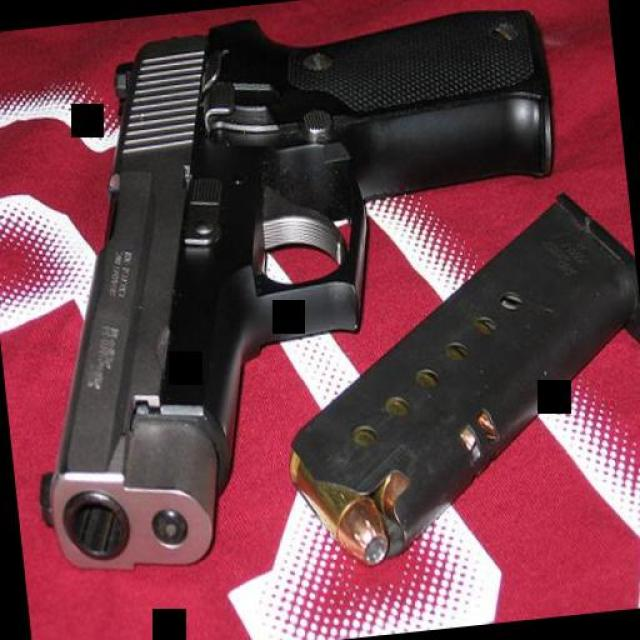gun: (0, 0, 591, 575)
